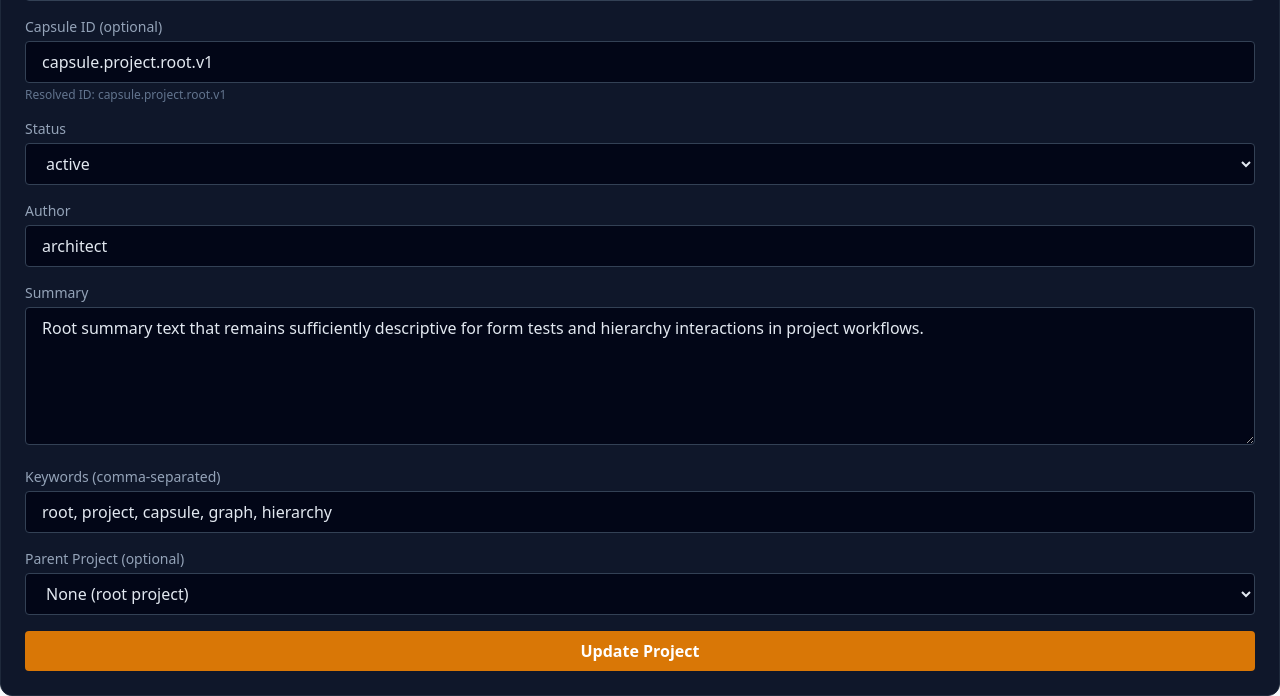
ProjectForm › shows cycle warning and disables submit for cyclic parent selection
(page scrolled)
Select "Child" in the dropdown labelled "Parent Project (optional)" at coordinates (640, 594), box [25, 573, 1255, 615]
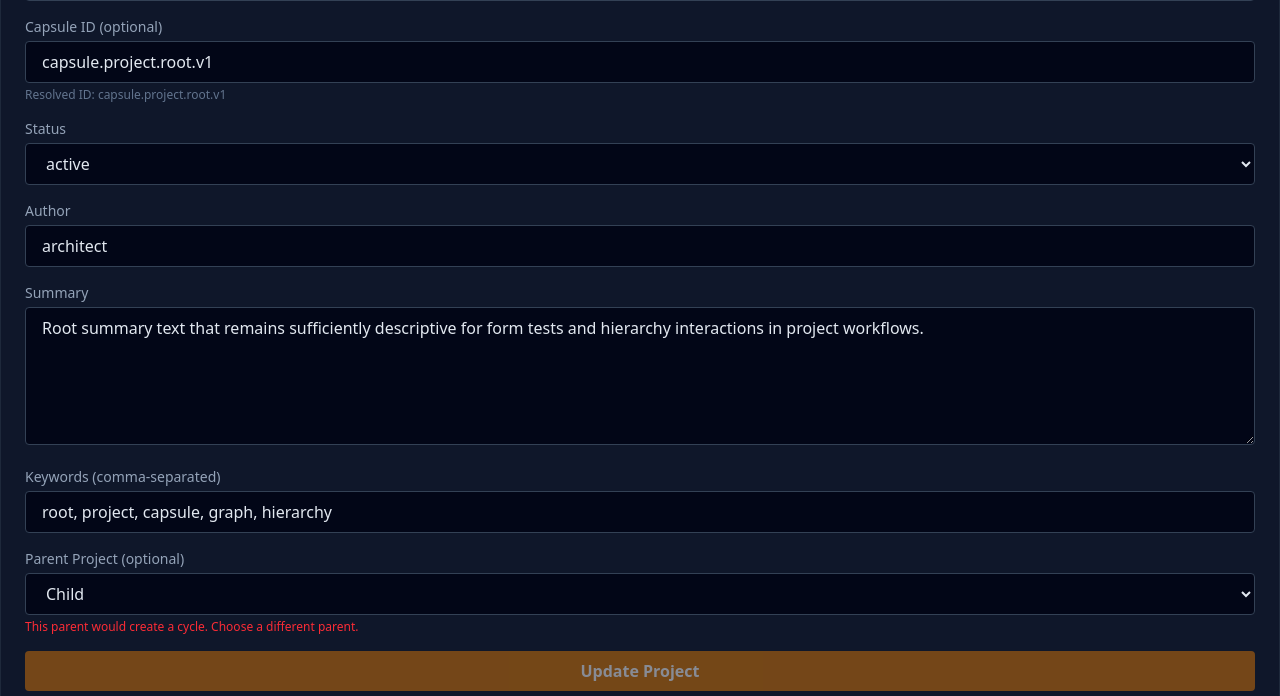
Now the text "This parent would create a cycle. Choose a different parent." is shown, box [25, 618, 358, 635]
Now the button "Update Project" is disabled, box [25, 651, 1255, 691]
